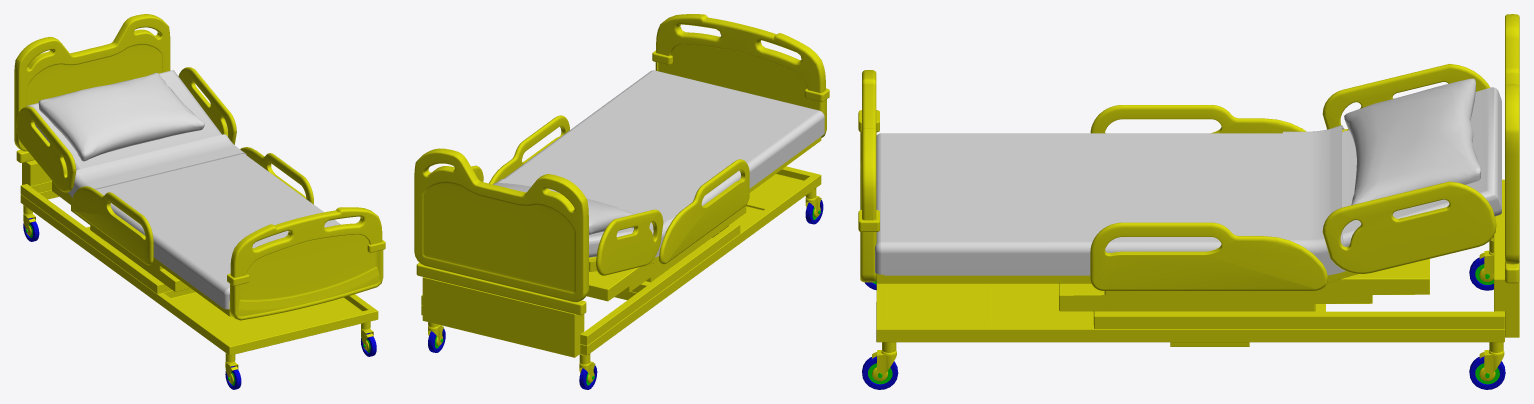
File: SM_HospitalBed_NoBedding.fbx
3 renders of one model, left to right at view 1: azimuth 30°, elevation 25°; view 2: azimuth 150°, elevation 25°; view 3: azimuth 270°, elevation 25°, orthographic. The views are drawn at different scales.
Parts seen in each view (by area): view 1: HospitalBed; view 2: HospitalBed; view 3: HospitalBed.
Boxes of the visible parts, x1,y1,x2,y2 form: HospitalBed: [14, 14, 385, 389]; HospitalBed: [414, 14, 829, 389]; HospitalBed: [858, 14, 1519, 389].
Bounding box in the file's own units: 1.22 × 1.35 × 2.82.
